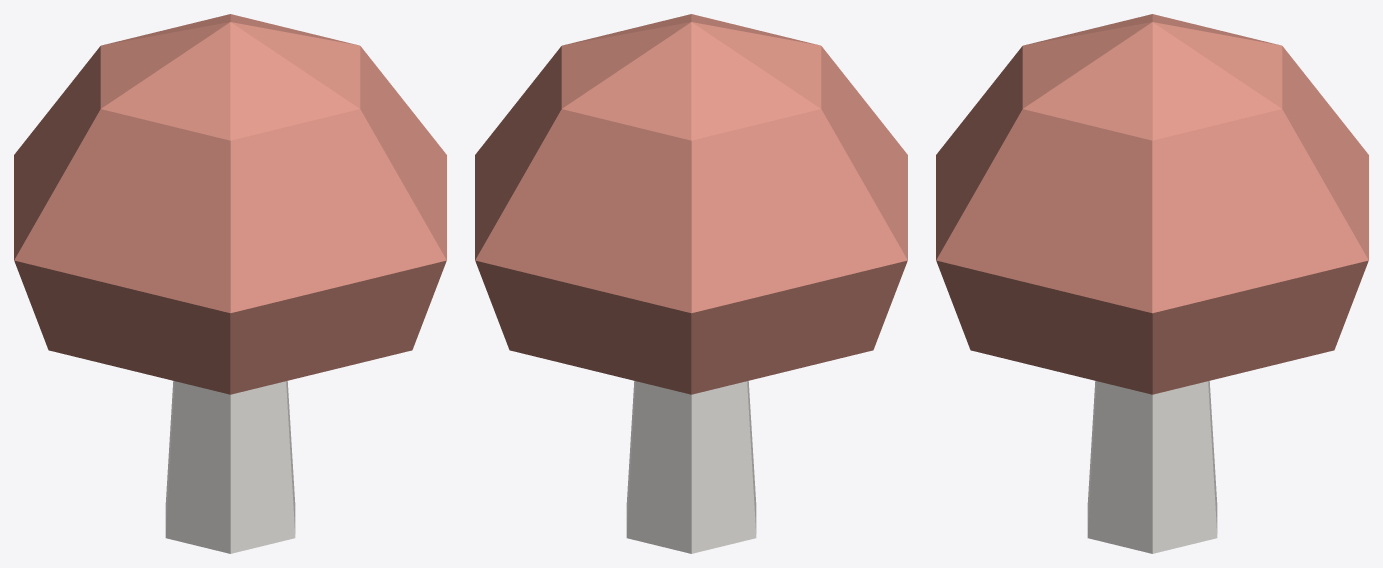
The model's file is Hilly_Prop_Mushroom_1.glb.
3 views of the same model, side by side, from view 1: azimuth 30°, elevation 25°; view 2: azimuth 150°, elevation 25°; view 3: azimuth 270°, elevation 25° (orthographic).
Parts seen in each view (by area): view 1: Hilly_Prop_Mushroom_1; view 2: Hilly_Prop_Mushroom_1; view 3: Hilly_Prop_Mushroom_1.
Part boxes in pixels (bbox=[...]): Hilly_Prop_Mushroom_1: bbox=[14, 14, 446, 553]; Hilly_Prop_Mushroom_1: bbox=[475, 14, 907, 553]; Hilly_Prop_Mushroom_1: bbox=[936, 14, 1368, 553].
Bounding box in the file's own units: 0.25 × 0.2762 × 0.2165.
